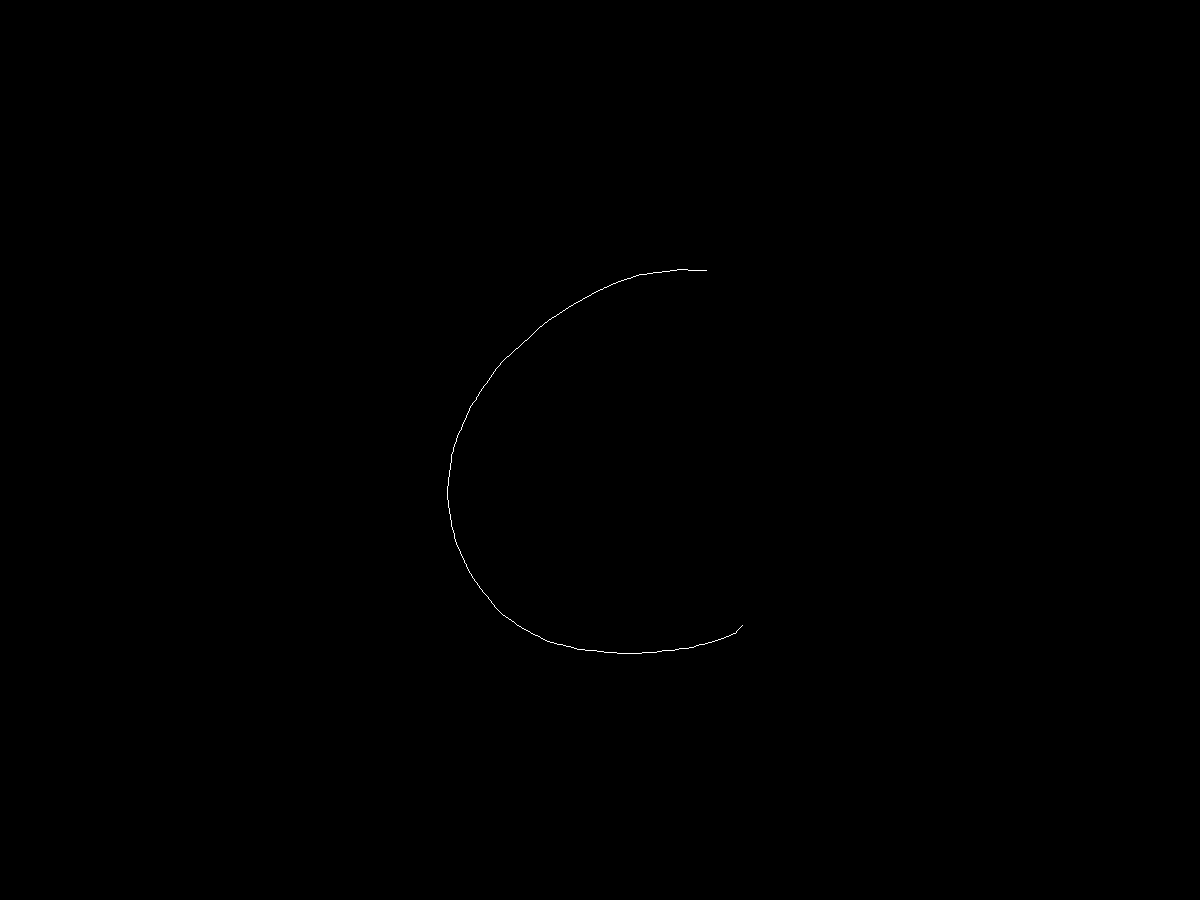dian1: (698, 258, 713, 279)
dian2: (737, 608, 754, 634)
